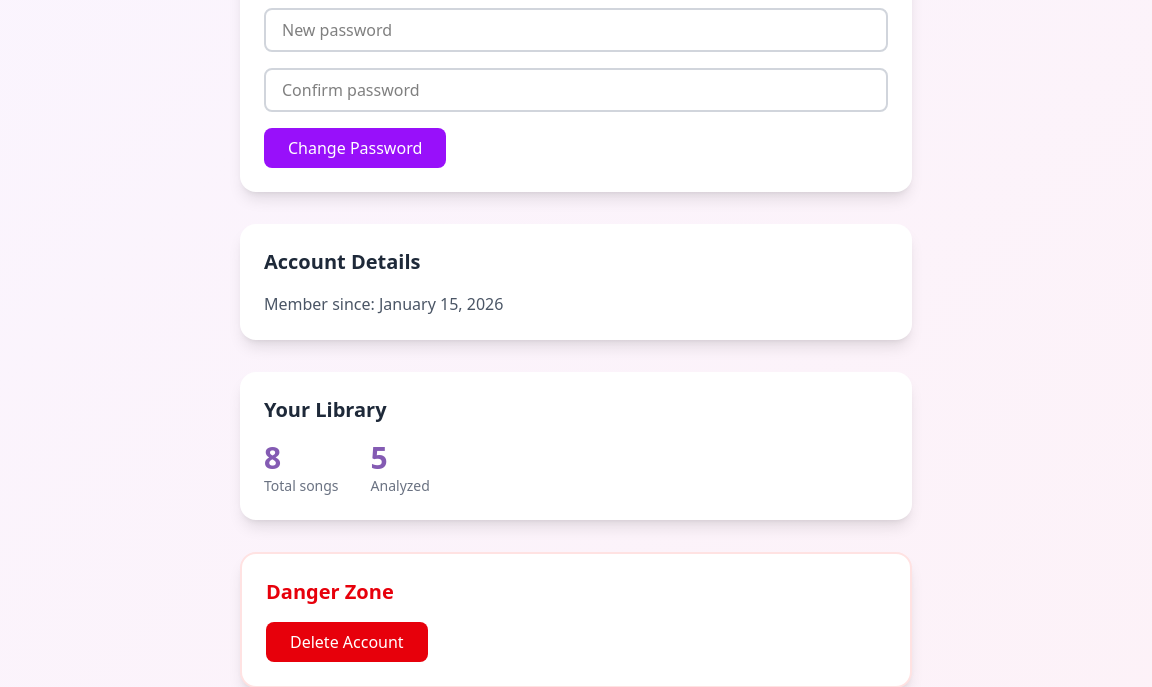
Test: DashboardPage › displays an error when account deletion fails
(page scrolled)
Click the button "Delete Account" at x=347, y=642, box [266,622,428,662]
(page scrolled)
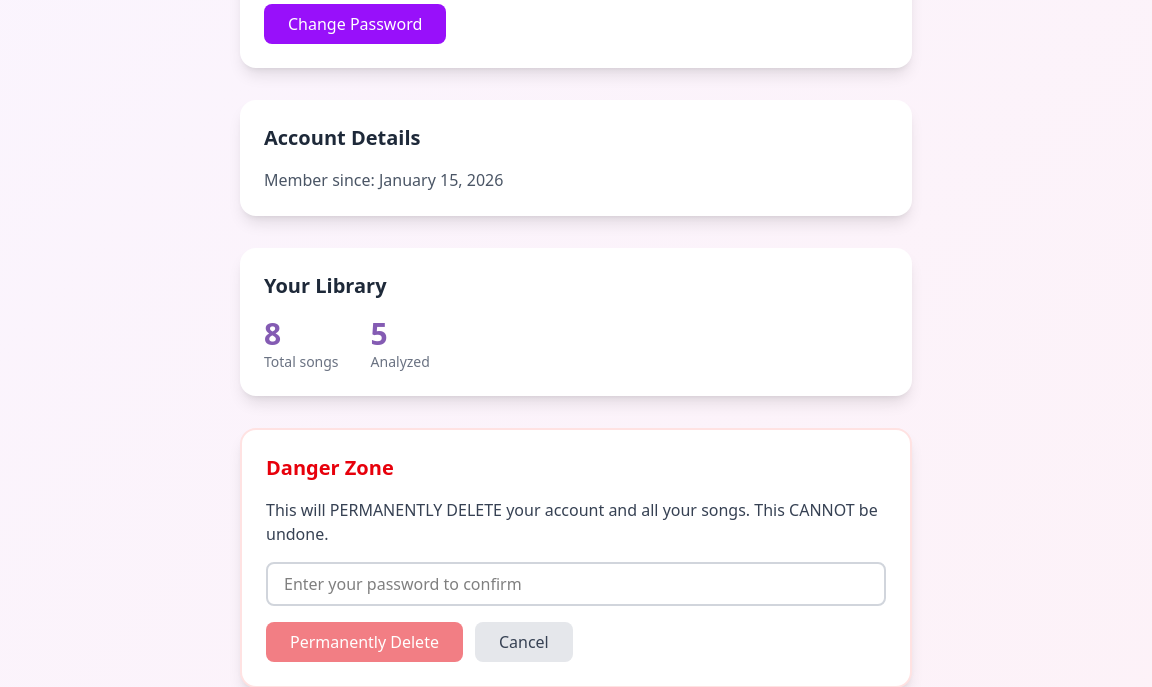
Type "wrongpassword" into the password field with placeholder "Enter your password to confirm" at x=576, y=584, box [266,562,886,606]
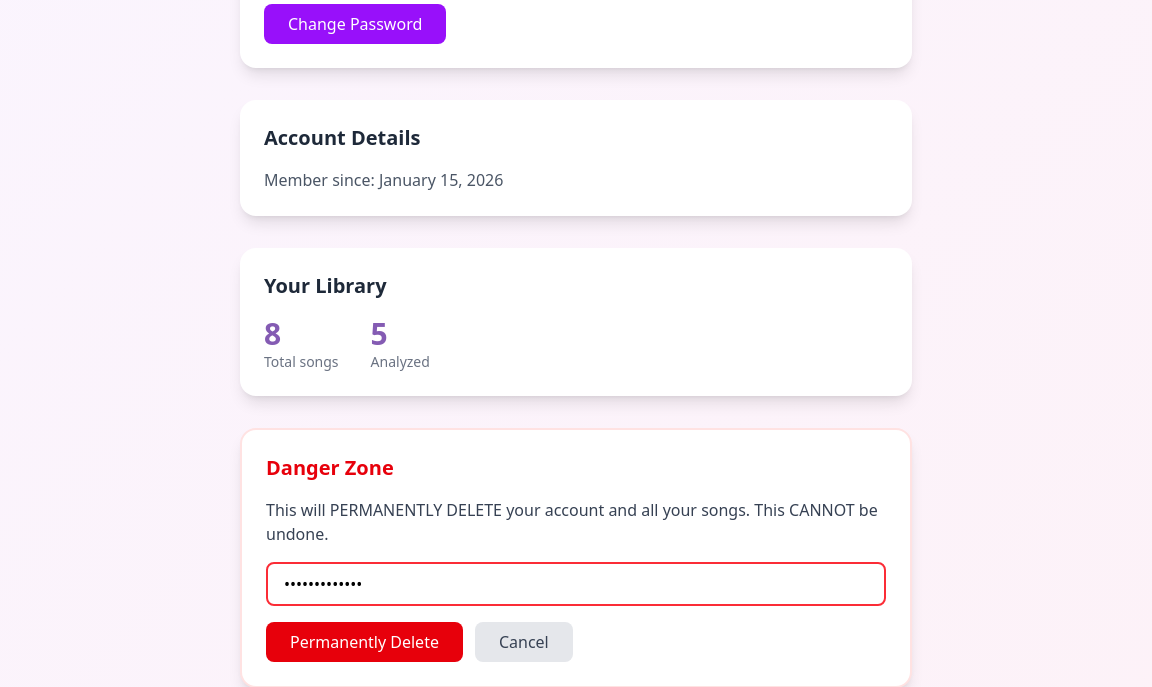
Click the button "Permanently Delete" at x=364, y=642, box [266,622,463,662]
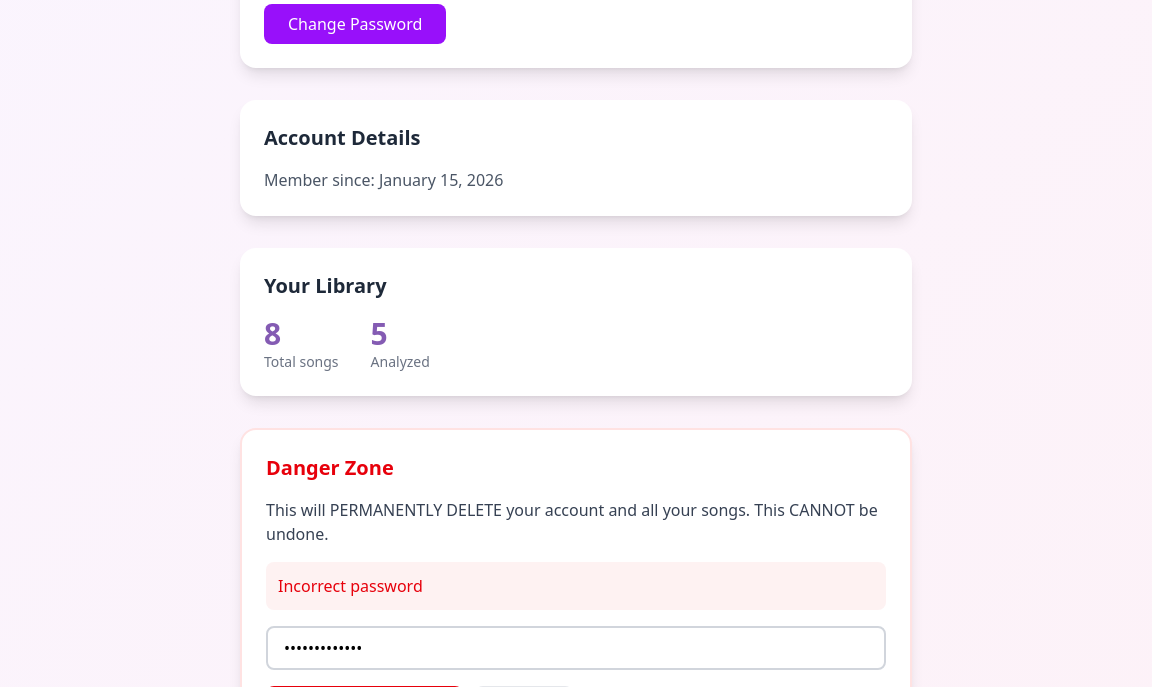
Check: the text "Incorrect password" is shown, box [266,562,886,610]
